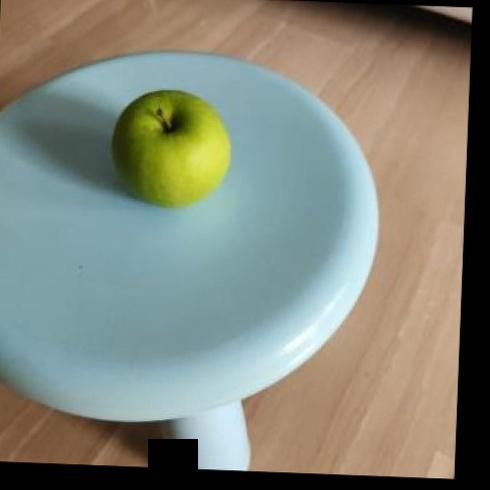green apple: (110, 89, 235, 210)
